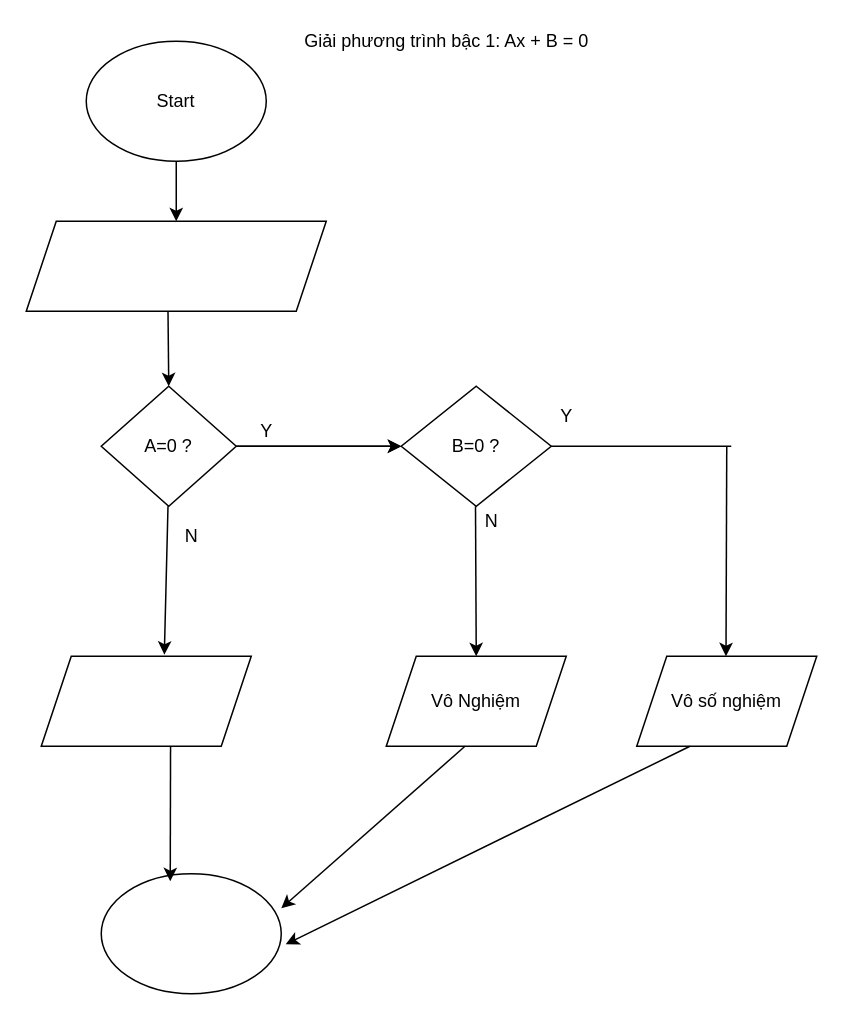
Some shapes in this 843 by 1020 pixel diagram are drawn without their labels. The shapes that lost their labels are listed below. From the top down, each one's box as (x1, y1, x2, y2) in pixels, then its label:
(25, 220, 326, 311): input A,B
(40, 655, 251, 746): x= -B/A
(100, 872, 281, 994): END
